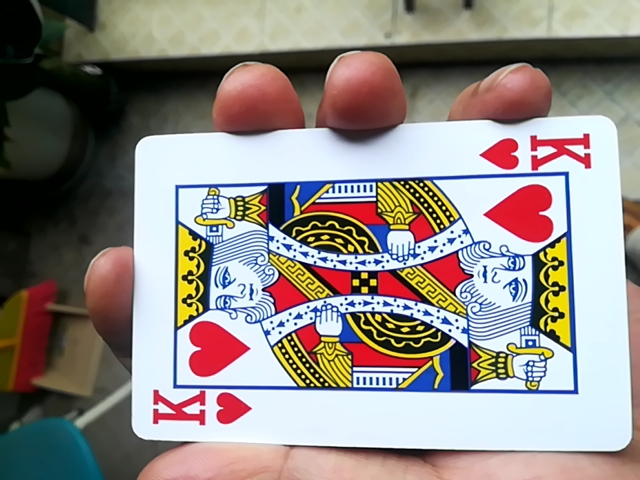hx k: (119, 117, 625, 461)
